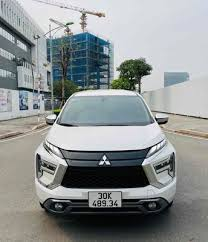Bien-so: (89, 191, 123, 209)
